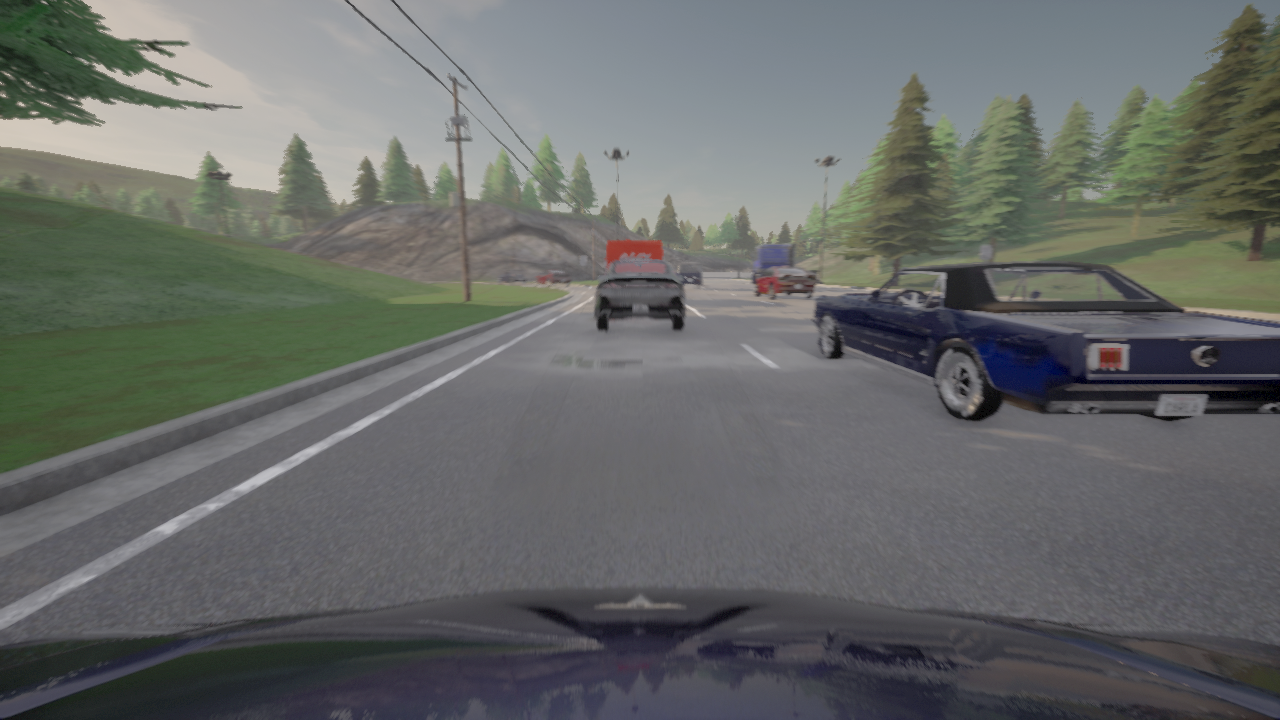cyclist: (0, 588, 1279, 719), (812, 263, 1279, 422), (595, 260, 684, 330), (751, 243, 818, 287), (754, 266, 814, 298), (604, 241, 662, 273), (673, 262, 701, 289), (534, 269, 570, 287), (497, 270, 526, 284)
